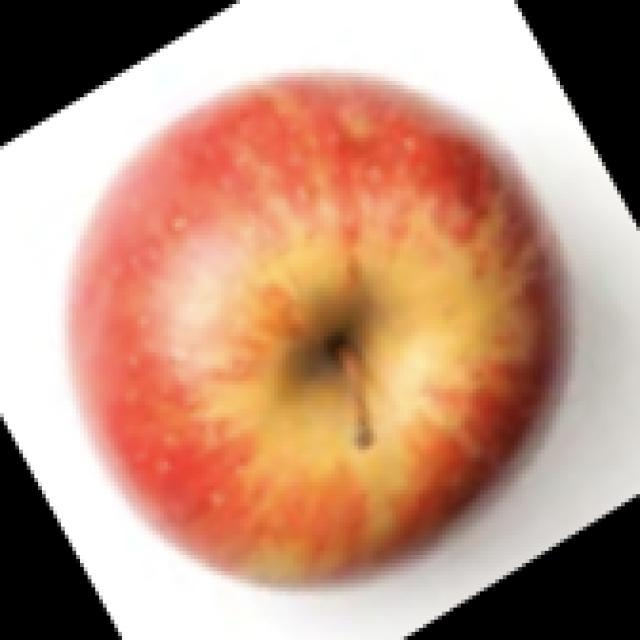Fresh Apple: (65, 62, 552, 578)
